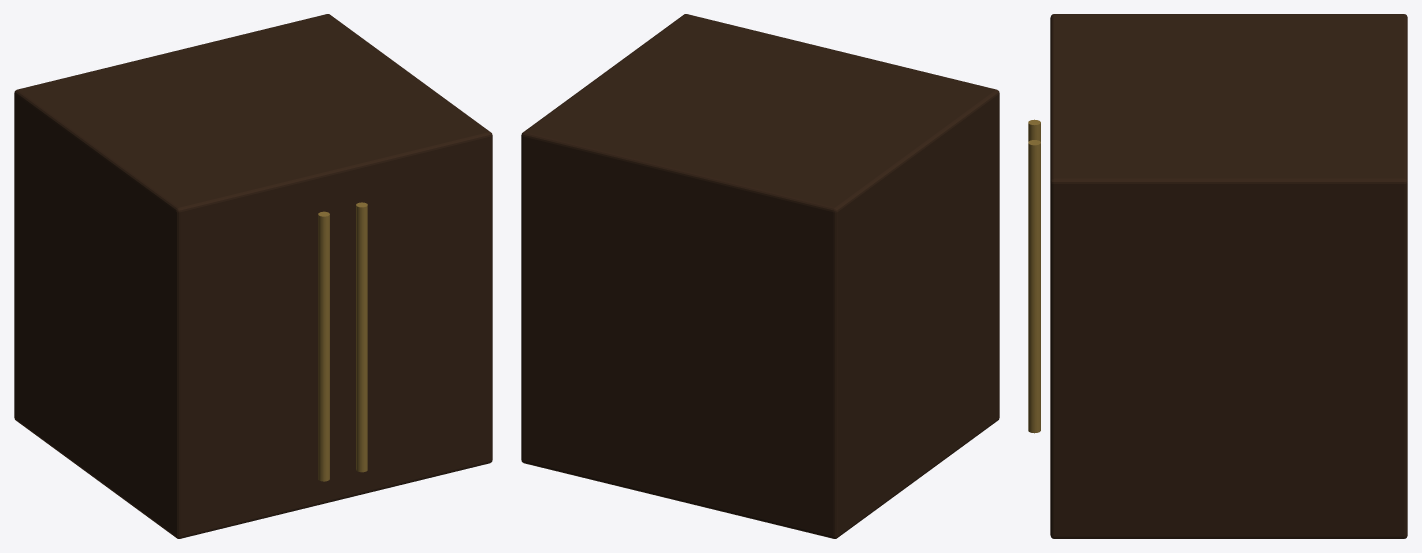
The model's file is bedside_table.glb.
3 views of the same model, side by side, from view 1: azimuth 30°, elevation 25°; view 2: azimuth 150°, elevation 25°; view 3: azimuth 270°, elevation 25° (orthographic). The views are drawn at different scales.
Visible parts, largest first — view 1: Cube, Cylinder.001, Cylinder; view 2: Cube; view 3: Cube, Cylinder.001.
Boxes of the visible parts, left/top/right/bottom form: Cube: left=14, top=14, right=492, bottom=538; Cylinder.001: left=356, top=202, right=367, bottom=472; Cylinder: left=318, top=211, right=329, bottom=481; Cube: left=521, top=14, right=999, bottom=538; Cube: left=1050, top=14, right=1407, bottom=538; Cylinder.001: left=1028, top=140, right=1040, bottom=433.
Size of the model in its own units: 0.5 by 0.5 by 0.478.
